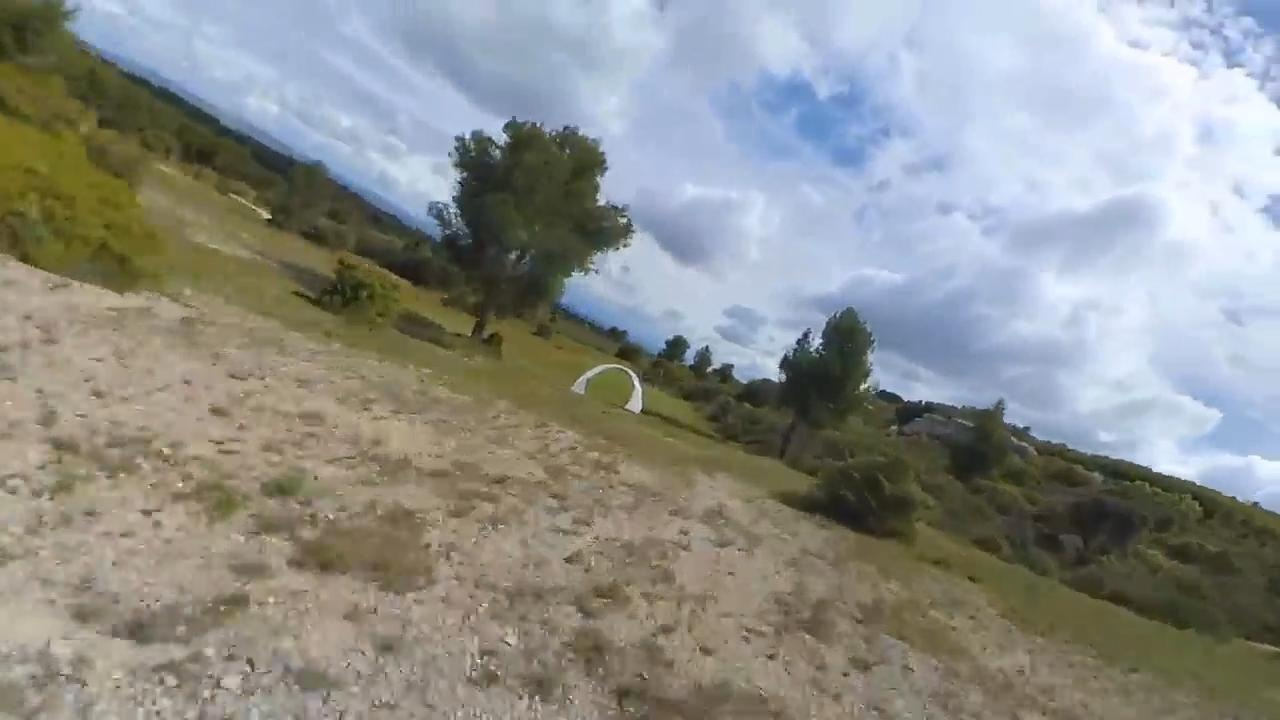gate: (571, 361, 641, 417)
